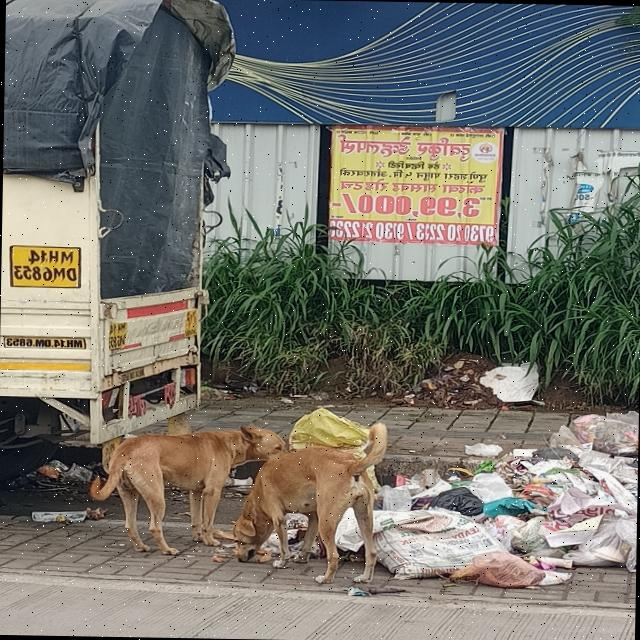garbage: (315, 408, 630, 604)
